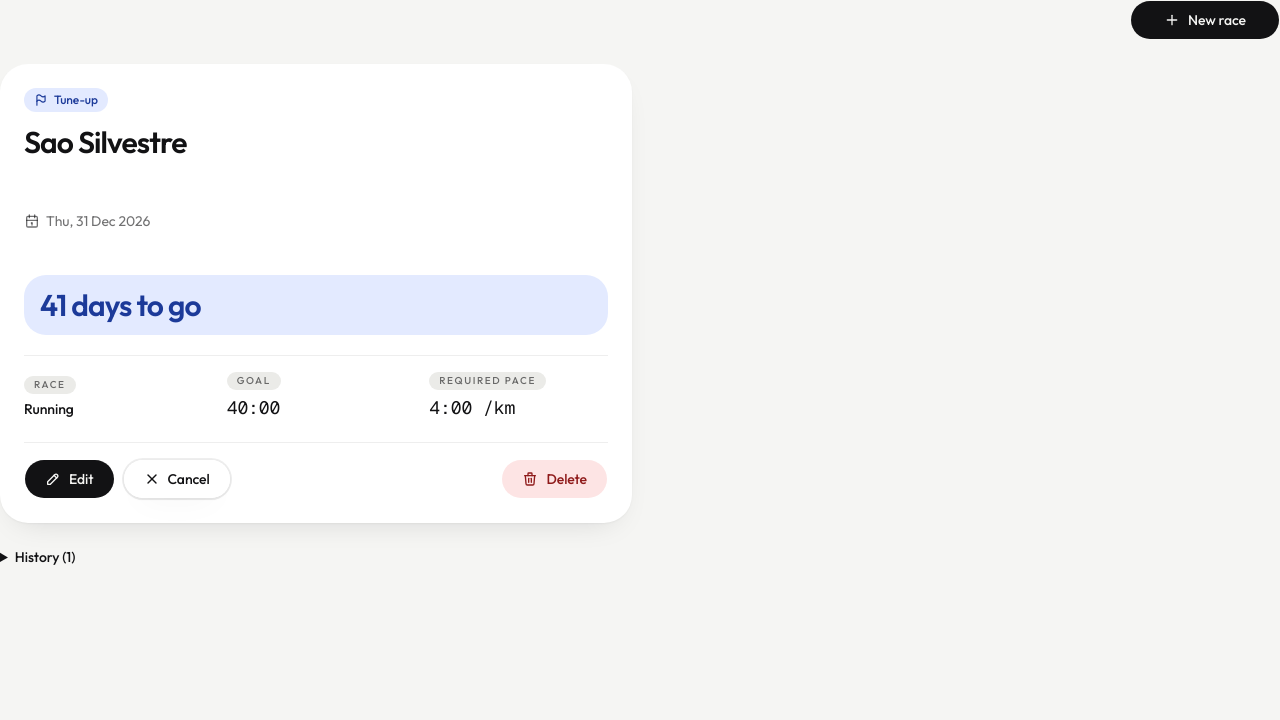
RacesList › cancels and deletes only after contextual dialog confirmation
Later steps or results of the test are not shown.
Click the button with test id "race-cancel-r-run". click: (177, 479)
box: [122,459,231,499]
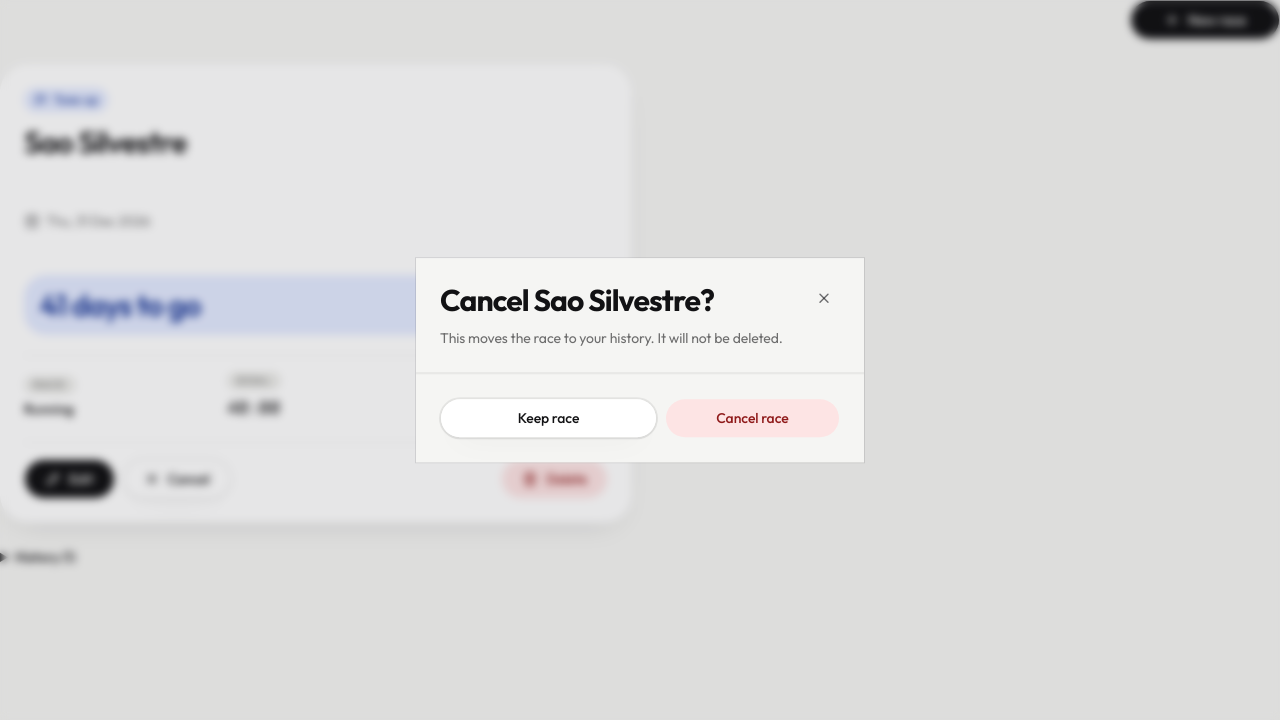
Check: the dialog with test id "race-confirm-dialog-r-run" shows "This moves the race to your history.", box [440,329,783,347]
